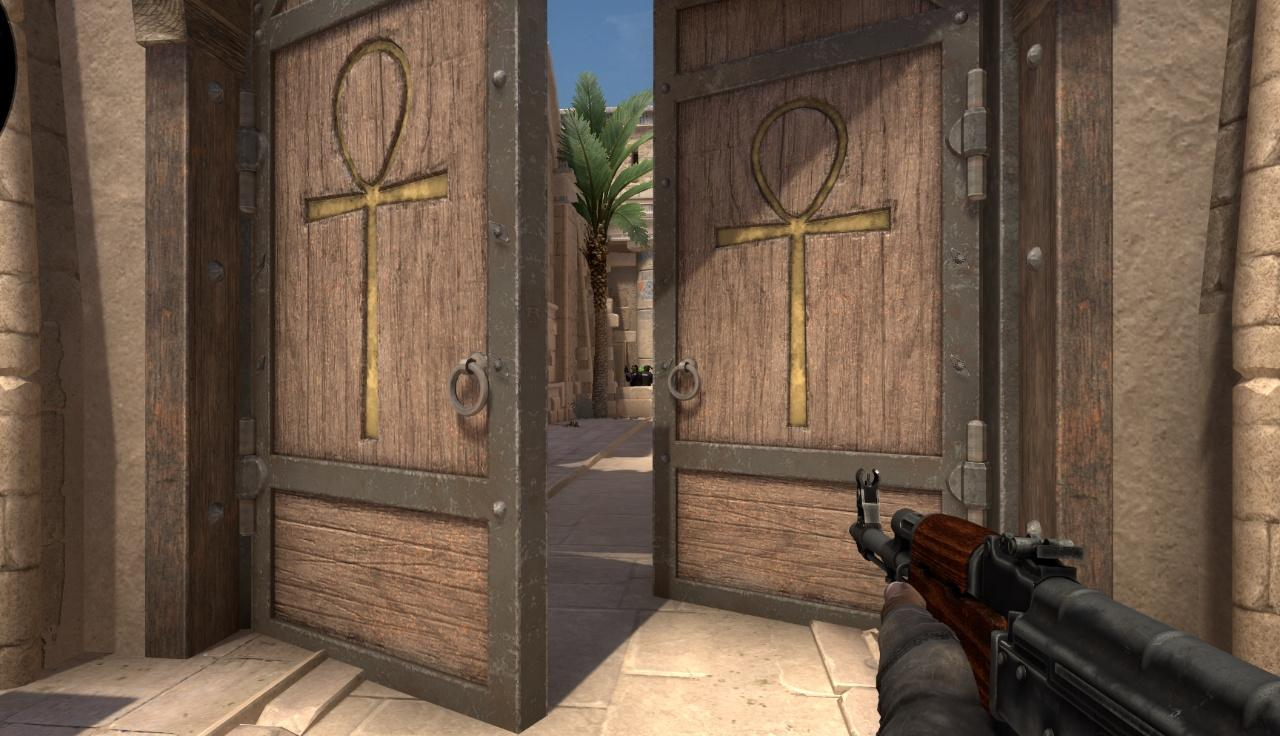ct: (624, 364, 640, 386), (640, 364, 654, 386)
cthead: (631, 365, 638, 372), (643, 365, 650, 372)
rifle: (852, 479, 1280, 732)
